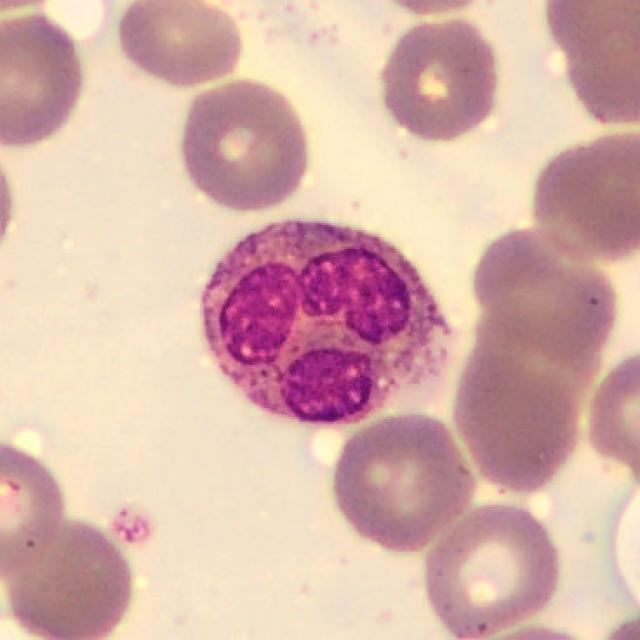Neutrofilo segmentado: (198, 220, 449, 426)
